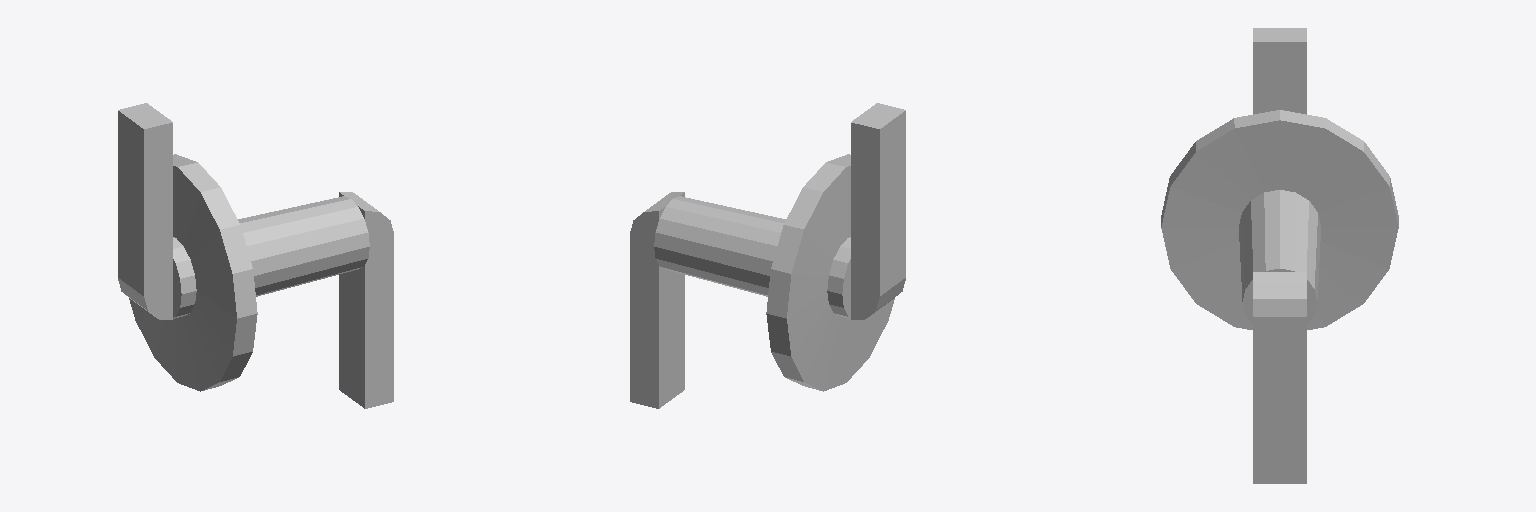
File: Pedals3.obj
3 views of the same model, side by side, from view 1: azimuth 30°, elevation 25°; view 2: azimuth 150°, elevation 25°; view 3: azimuth 270°, elevation 25° (orthographic).
Parts seen in each view (by area): view 1: BMX_Pedals; view 2: BMX_Pedals; view 3: BMX_Pedals.
Boxes of the visible parts, box(x1,y1,x2,y2) form: BMX_Pedals: box(118, 103, 393, 408); BMX_Pedals: box(630, 103, 905, 408); BMX_Pedals: box(1161, 28, 1398, 483).
Bounding box in the file's own units: 0.4222 × 0.5377 × 0.3482.